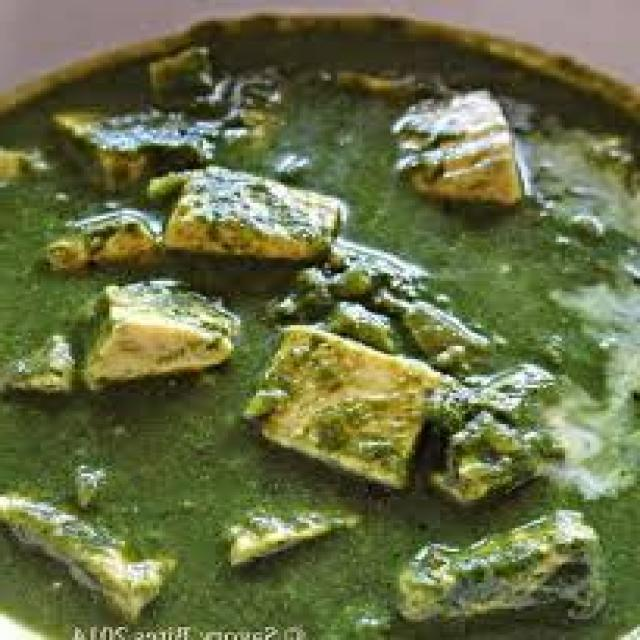Palak Paneer: (0, 21, 640, 640)
